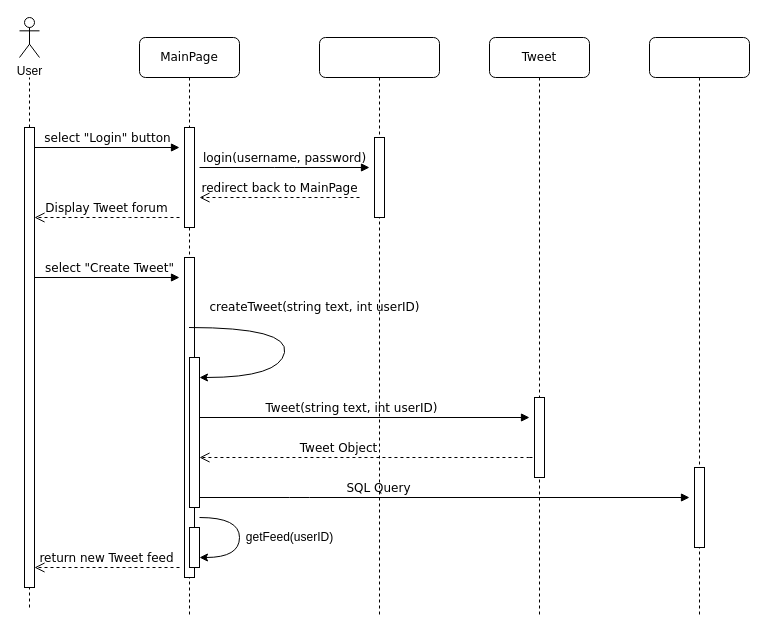
Some shapes in this 767 by 635 pixel diagram are drawn without their labels. The box of each missing label's shape, as (x1, y1, x2, y2) in pixels:
AccountManager: (318, 36, 440, 618)
Database: (648, 36, 750, 618)
